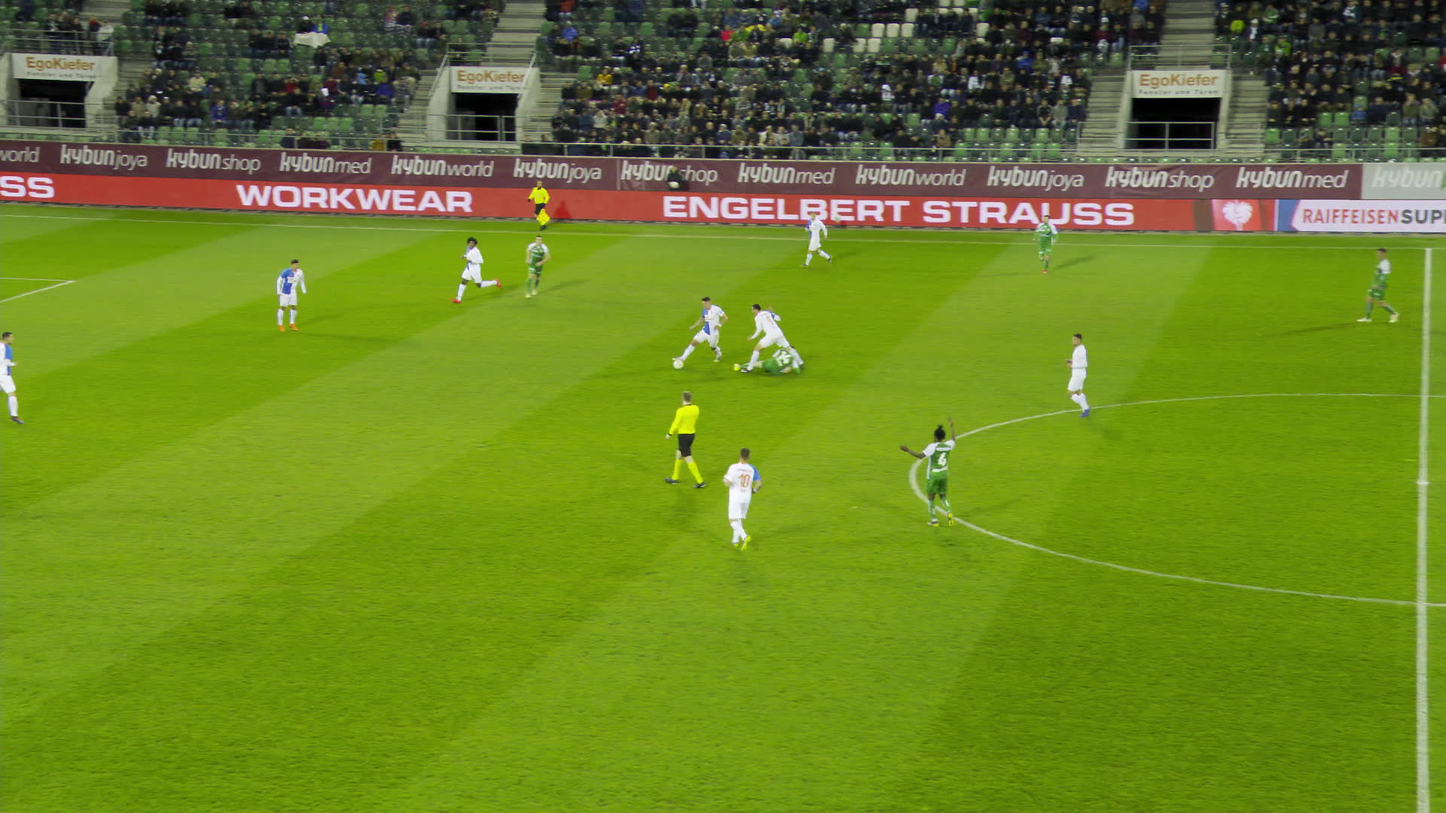ball: (673, 360, 682, 368)
player: (898, 416, 956, 526), (740, 303, 804, 373), (721, 448, 761, 551), (671, 297, 725, 362), (451, 236, 500, 304), (1356, 247, 1399, 323), (276, 259, 307, 330), (1064, 332, 1089, 419), (0, 333, 23, 425), (731, 344, 803, 373), (799, 212, 833, 269), (523, 235, 551, 299), (1032, 214, 1057, 273)
referee: (664, 390, 705, 490), (525, 181, 548, 230)
